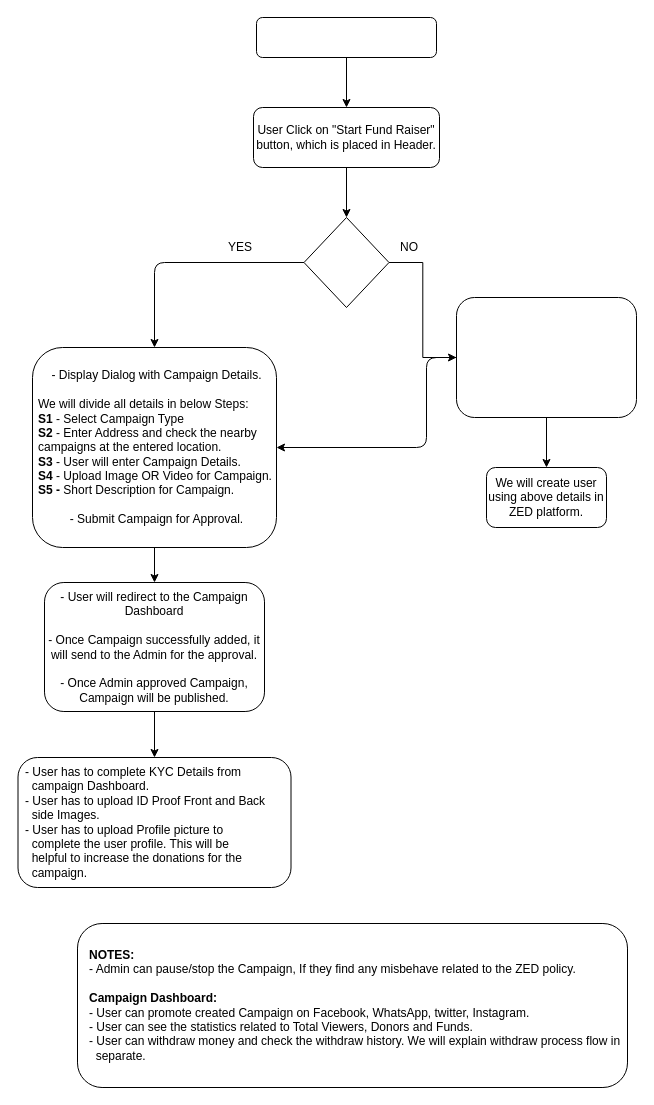
Image size: 654x1105. Some labels were removed from this diagram. Each missing label, with the box of its shape:
- Display dialog for User Details like: - User name - Email - Mobile Number: (456, 296, 636, 418)
is User Login?: (303, 216, 389, 308)
Start Campaigner Flow: (256, 16, 436, 58)
